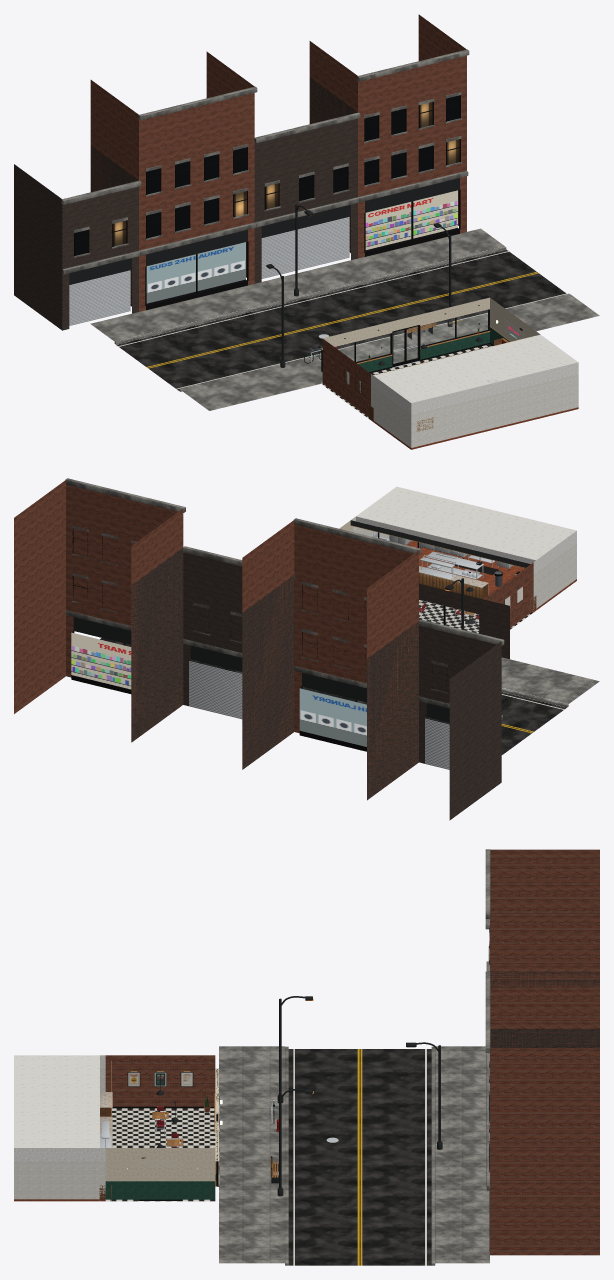
The model's file is restaurant.gltf.
3 views of the same model, one above another, from view 1: azimuth 30°, elevation 25°; view 2: azimuth 150°, elevation 25°; view 3: azimuth 270°, elevation 25° (orthographic). The views are drawn at different scales.
Visible parts, largest first — view 1: exterior, kitchen, unbaked_exterior, dining, unbaked_dining; view 2: exterior, kitchen, unbaked_exterior, dining, unbaked_dining; view 3: exterior, dining, kitchen.
Boxes of the visible parts, x1,y1,x2,y2 form: exterior: [14, 14, 599, 410]; kitchen: [371, 333, 578, 449]; unbaked_exterior: [74, 95, 460, 363]; dining: [321, 297, 538, 420]; unbaked_dining: [321, 309, 528, 375]; exterior: [14, 478, 599, 820]; kitchen: [353, 486, 576, 612]; unbaked_exterior: [71, 528, 449, 751]; dining: [339, 518, 536, 633]; unbaked_dining: [351, 525, 525, 633]; exterior: [217, 849, 599, 1265]; dining: [99, 1055, 218, 1201]; kitchen: [14, 1055, 111, 1201].
Size of the model in its own units: 30.05 by 13.65 by 32.
Materials: 98 (41 with a texture image).
